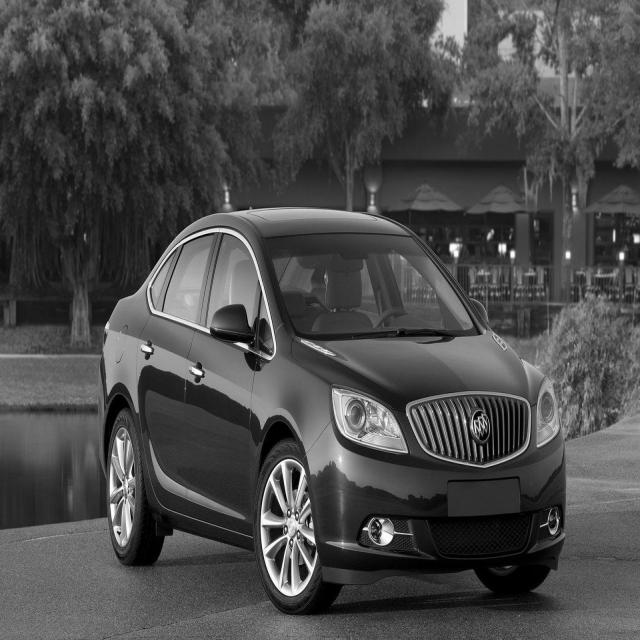car: (97, 205, 567, 615)
